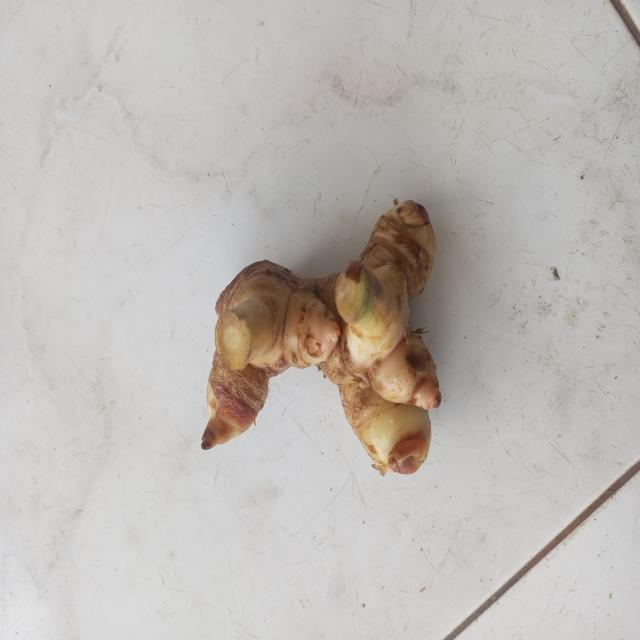ginger: (205, 206, 436, 470)
